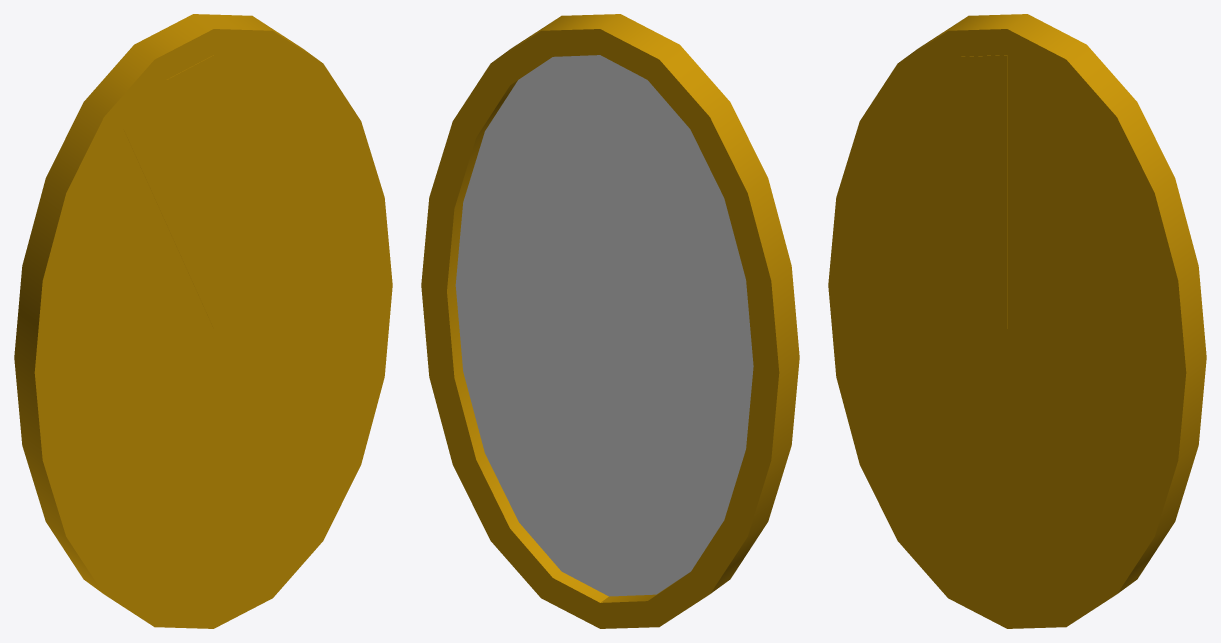
Rendered from mirror.fbx.
The picture shows the model from 3 angles, left to right: view 1: azimuth 30°, elevation 25°; view 2: azimuth 150°, elevation 25°; view 3: azimuth 330°, elevation 25°; orthographic projection.
Visible parts, largest first — view 1: Mirror; view 2: Mirror; view 3: Mirror.
Part boxes in pixels (left/top/right/bottom): Mirror: left=14, top=14, right=392, bottom=628; Mirror: left=421, top=14, right=799, bottom=628; Mirror: left=828, top=14, right=1206, bottom=628.
Size of the model in its own units: 1.56 by 2.49 by 0.156.
